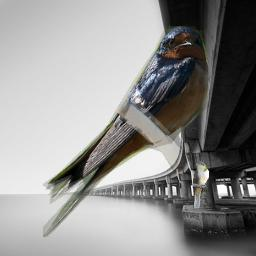Cuckoo: (192, 161, 209, 208)
Swallow: (43, 26, 209, 237)
